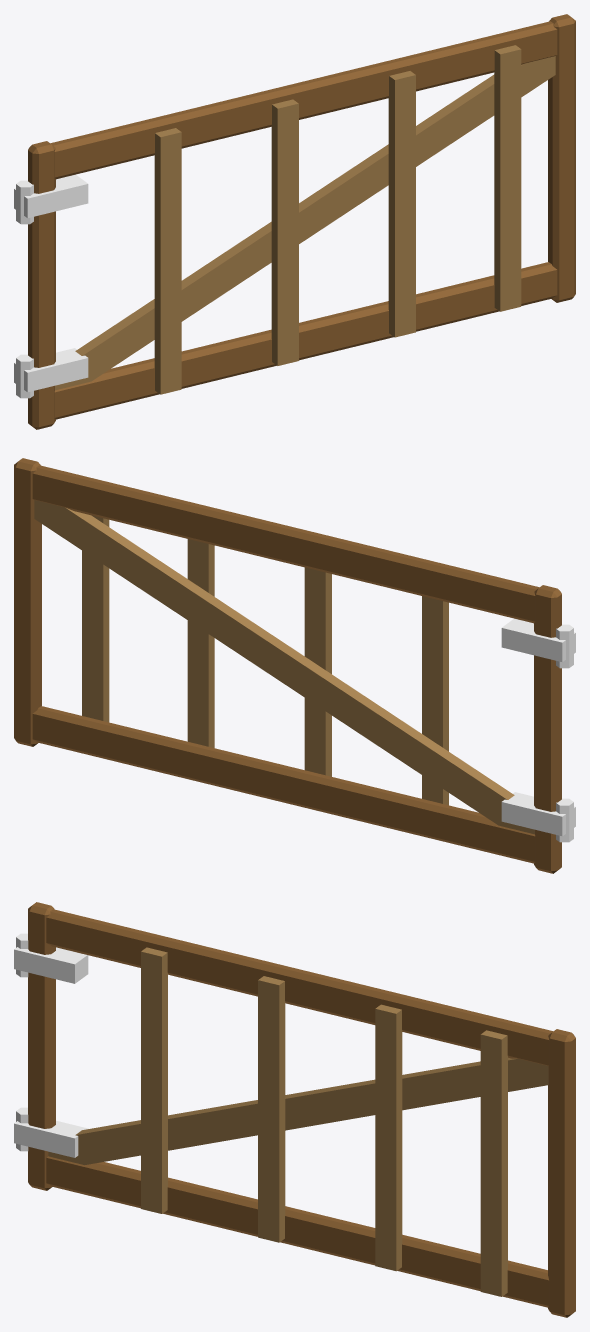
File: fence_gate.glb
3 views of the same model, one above another, from view 1: azimuth 30°, elevation 25°; view 2: azimuth 150°, elevation 25°; view 3: azimuth 330°, elevation 25° (orthographic).
Visible parts, largest first — view 1: FenceGate; view 2: FenceGate; view 3: FenceGate.
Boxes of the visible parts, x1,y1,x2,y2 form: FenceGate: (14,14,575,429); FenceGate: (14,458,575,873); FenceGate: (14,902,575,1317).
Bounding box in the file's own units: 2.37 × 1.15 × 0.1225.
